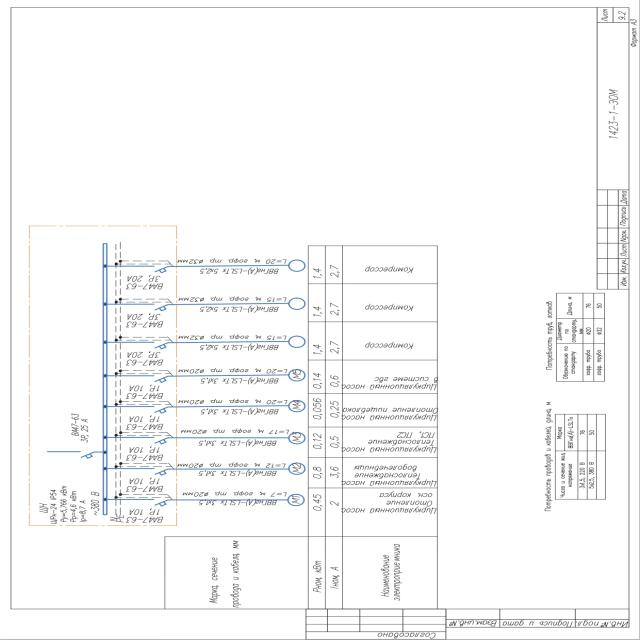-: (68, 412, 92, 446), (124, 446, 164, 462), (124, 351, 164, 367), (125, 275, 165, 291), (126, 312, 166, 328), (124, 415, 164, 431), (125, 477, 165, 493), (125, 508, 165, 524), (124, 384, 164, 399), (49, 488, 59, 524)
QF: (148, 497, 170, 508), (148, 301, 170, 312), (148, 467, 169, 478), (75, 449, 96, 460), (150, 372, 171, 383), (149, 405, 170, 416), (149, 340, 171, 350), (148, 264, 170, 274), (148, 436, 168, 446)
